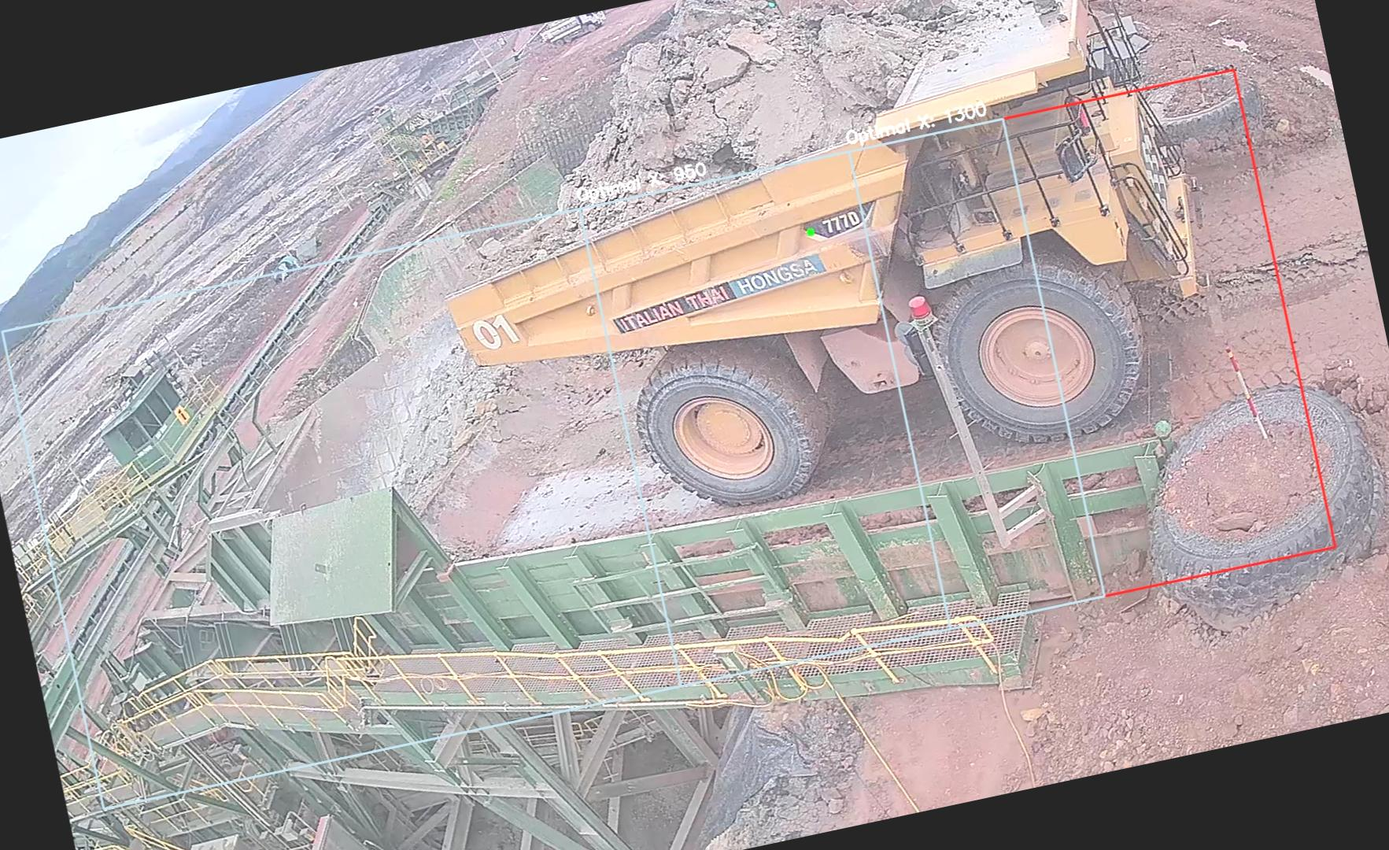company: (598, 248, 839, 344)
full_load: (554, 0, 907, 220)
mining_truck: (393, 0, 1274, 560)
tail_number: (455, 296, 532, 369)
truck_size: (787, 192, 883, 251)
